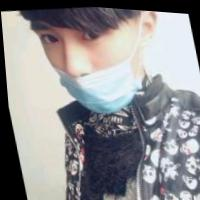WRONG: (33, 3, 152, 124)
